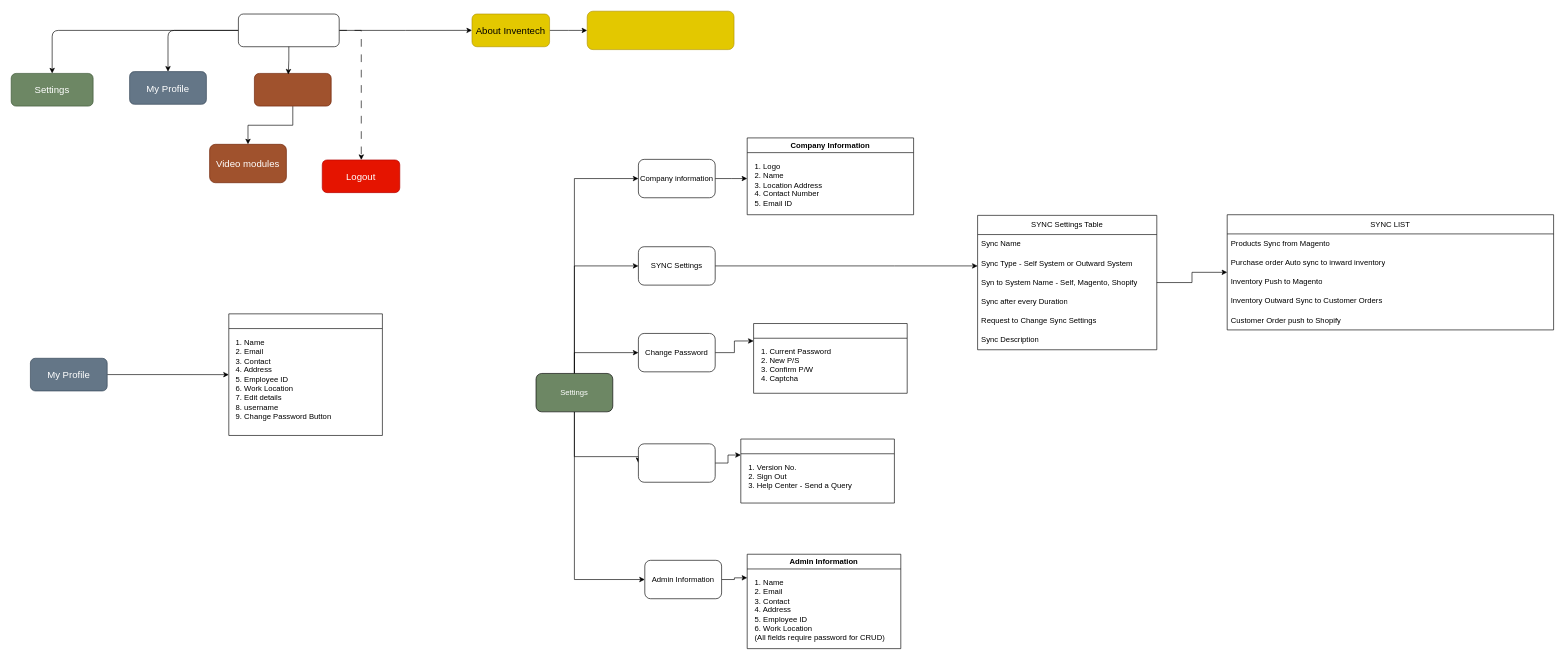
Some shapes in this 1565 by 660 pixel diagram are drawn without their labels. The box of each missing label's shape, as (x1, y1, x2, y2) in pixels:
Change P/W: (753, 323, 907, 393)
How to use: (254, 73, 331, 106)
MISC Fields: (740, 438, 894, 503)
Miscellaneous Dashboards: (238, 13, 339, 47)
Miscelleneous: (638, 443, 715, 482)
My Profile Information: (228, 313, 382, 435)
Redirect to company website https://www.inewtech.in: (587, 11, 734, 50)
